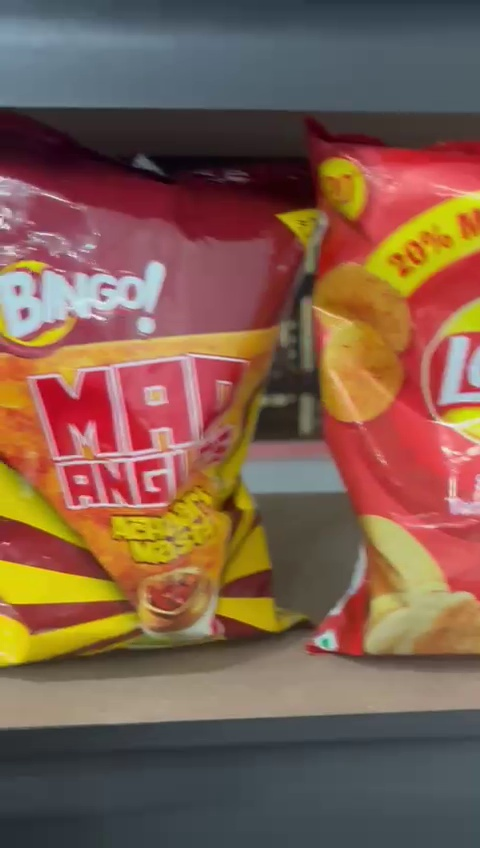Bingo Mad Angles: (4, 126, 284, 665)
